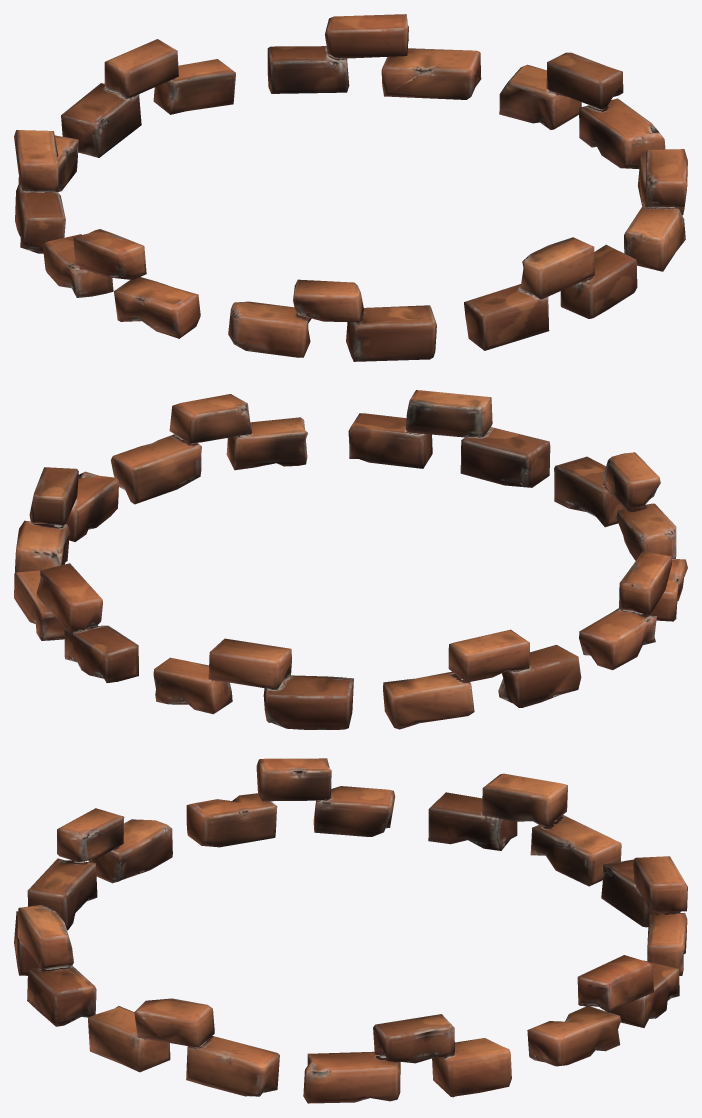
The model's file is hearth_ring.glb.
3 renders of one model, top to bottom at view 1: azimuth 30°, elevation 25°; view 2: azimuth 150°, elevation 25°; view 3: azimuth 270°, elevation 25°, orthographic.
Visible parts, largest first — view 1: hearth_ring; view 2: hearth_ring; view 3: hearth_ring.
Boxes of the visible parts, bbox=[...] form: hearth_ring: bbox=[14, 14, 687, 361]; hearth_ring: bbox=[14, 390, 687, 729]; hearth_ring: bbox=[14, 758, 687, 1103].
Size of the model in its own units: 2.42 by 0.2851 by 2.4.
Materials: 1 (1 with a texture image).
